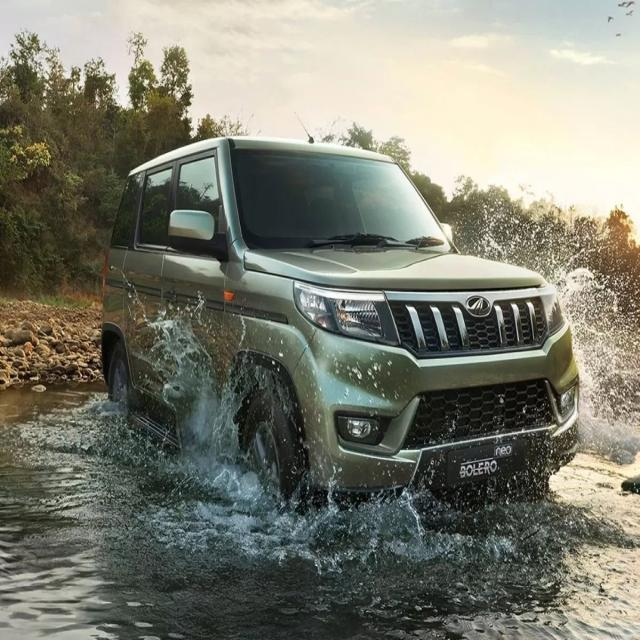light_vehicle: (98, 137, 583, 547)
